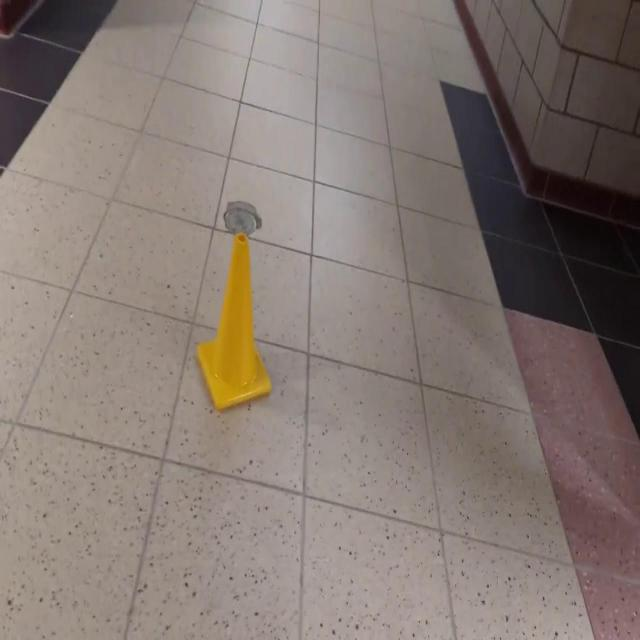frc_cone: (197, 231, 271, 413)
